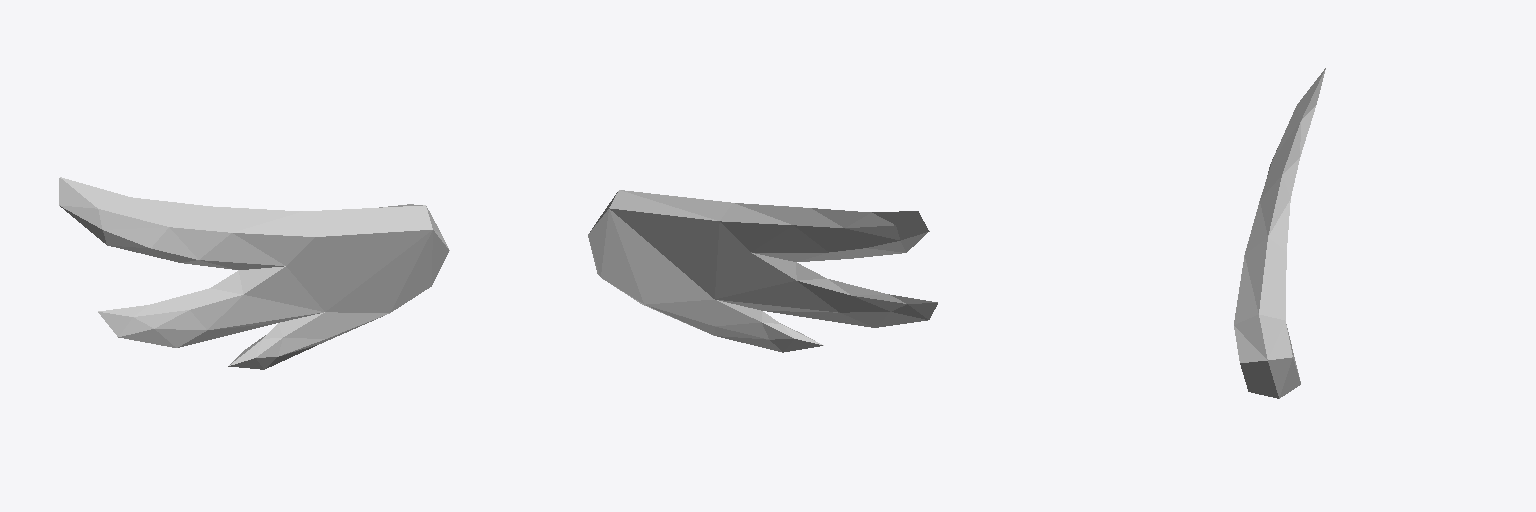
File: char4-hand.obj
The picture shows the model from 3 angles: view 1: azimuth 30°, elevation 25°; view 2: azimuth 150°, elevation 25°; view 3: azimuth 270°, elevation 25°; orthographic projection.
Visible parts, largest first — view 1: Plane.003; view 2: Plane.003; view 3: Plane.003.
Part boxes in pixels (bbox=[...]): Plane.003: bbox=[59, 177, 449, 369]; Plane.003: bbox=[588, 190, 937, 352]; Plane.003: bbox=[1234, 68, 1325, 398].
Bounding box in the file's own units: 0.2922 × 0.1625 × 0.0654.